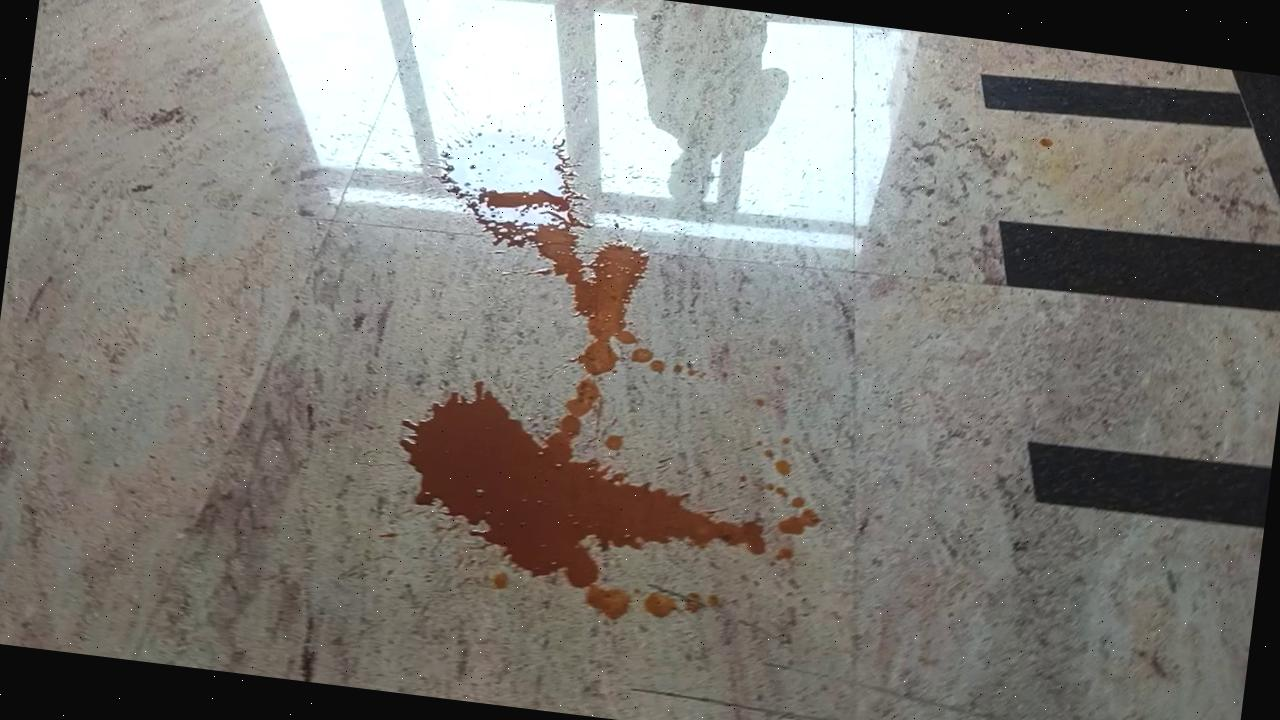dirty_floor: (381, 115, 864, 644)
